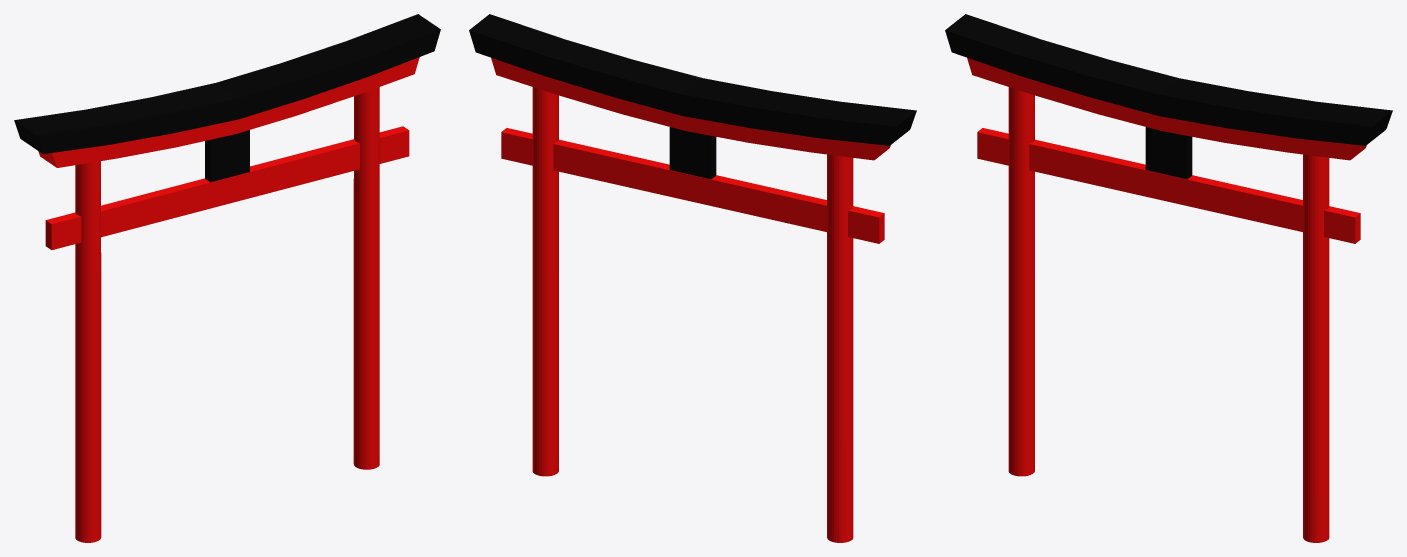
Rendered from Torii.gltf.
The picture shows the model from 3 angles, left to right: view 1: azimuth 30°, elevation 25°; view 2: azimuth 150°, elevation 25°; view 3: azimuth 330°, elevation 25°; orthographic projection.
Parts seen in each view (by area): view 1: Cube.001; view 2: Cube.001; view 3: Cube.001.
Part boxes in pixels (<box>): Cube.001: <box>14,14,440,542</box>; Cube.001: <box>469,14,916,542</box>; Cube.001: <box>945,14,1392,542</box>.
Bounding box in the file's own units: 7.26 × 7.15 × 0.8896.
